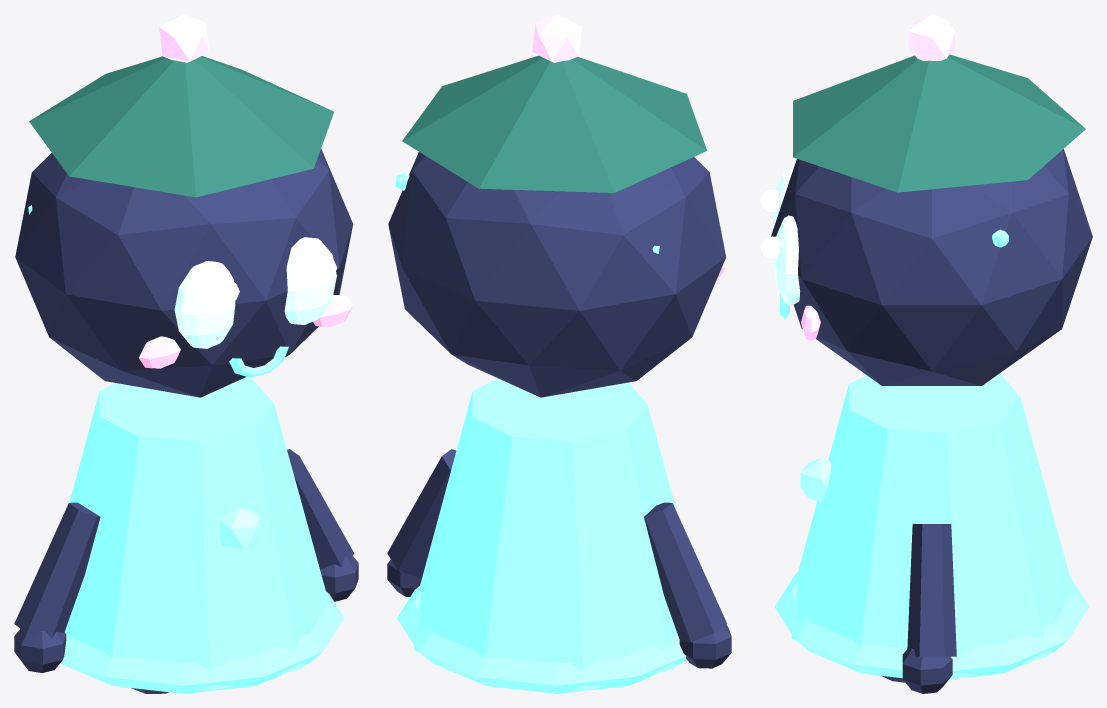
File: petite_modele.glb
The picture shows the model from 3 angles, left to right: view 1: azimuth 30°, elevation 25°; view 2: azimuth 150°, elevation 25°; view 3: azimuth 270°, elevation 25°; orthographic projection.
Visible parts, largest first — view 1: Robe_Petite, Crane_Petite, P22, P4.001, P8.001, P14.001, P11.001, P6.001, P23.001, P9.001, Coeur_Petite, P7.001 (+3 smaller); view 2: Crane_Petite, Robe_Petite, P22, P4.001, P8.001, P6.001, P23.001, P9.001, P7.001; view 3: Robe_Petite, Crane_Petite, P22, P4.001, P6.001, P23.001, P11.001, P7.001, Coeur_Petite, P13.001.
Boxes of the visible parts, x1=… form: Robe_Petite: x1=65, y1=377, x2=329, y2=691; Crane_Petite: x1=15, y1=148, x2=353, y2=397; P22: x1=29, y1=56, x2=333, y2=197; P4.001: x1=60, y1=591, x2=344, y2=693; P8.001: x1=14, y1=502, x2=100, y2=637; P14.001: x1=174, y1=261, x2=235, y2=348; P11.001: x1=284, y1=237, x2=336, y2=324; P6.001: x1=287, y1=449, x2=354, y2=569; P23.001: x1=159, y1=14, x2=209, y2=62; P9.001: x1=14, y1=628, x2=66, y2=672; Coeur_Petite: x1=219, y1=507, x2=262, y2=552; P7.001: x1=320, y1=556, x2=358, y2=601; Crane_Petite: x1=388, y1=152, x2=725, y2=397; Robe_Petite: x1=414, y1=378, x2=678, y2=691; P22: x1=402, y1=55, x2=706, y2=192; P4.001: x1=397, y1=586, x2=686, y2=693; P8.001: x1=644, y1=502, x2=726, y2=641; P6.001: x1=387, y1=449, x2=456, y2=578; P23.001: x1=532, y1=14, x2=582, y2=62; P9.001: x1=679, y1=625, x2=731, y2=668; P7.001: x1=387, y1=559, x2=421, y2=596; Robe_Petite: x1=791, y1=373, x2=1074, y2=678; Crane_Petite: x1=771, y1=149, x2=1092, y2=385; P22: x1=793, y1=54, x2=1085, y2=192; P4.001: x1=774, y1=572, x2=1088, y2=679; P6.001: x1=907, y1=524, x2=956, y2=656; P23.001: x1=908, y1=14, x2=955, y2=60; P11.001: x1=773, y1=215, x2=800, y2=304; P7.001: x1=902, y1=648, x2=952, y2=693; Coeur_Petite: x1=800, y1=458, x2=831, y2=502; P13.001: x1=801, y1=305, x2=820, y2=340.
Size of the model in its own units: 0.381 by 0.7065 by 0.3314.
